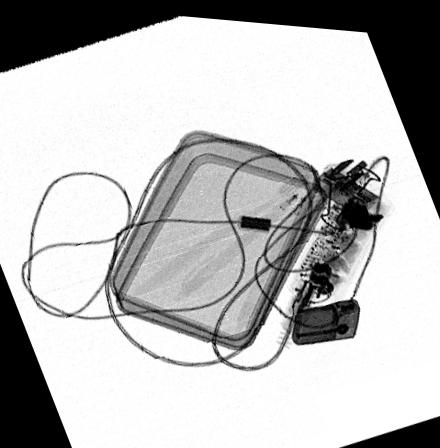Lighter: (290, 292, 359, 340)
